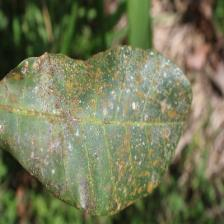red rust: (0, 44, 193, 216)
